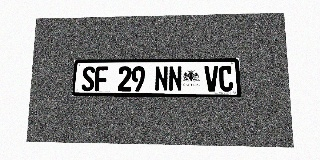2: (118, 66, 132, 91)
9: (132, 66, 145, 91)
C: (219, 66, 233, 92)
F: (95, 66, 108, 91)
N: (168, 66, 182, 91), (155, 66, 168, 91)
S: (81, 66, 95, 91)
V: (204, 66, 219, 92)
